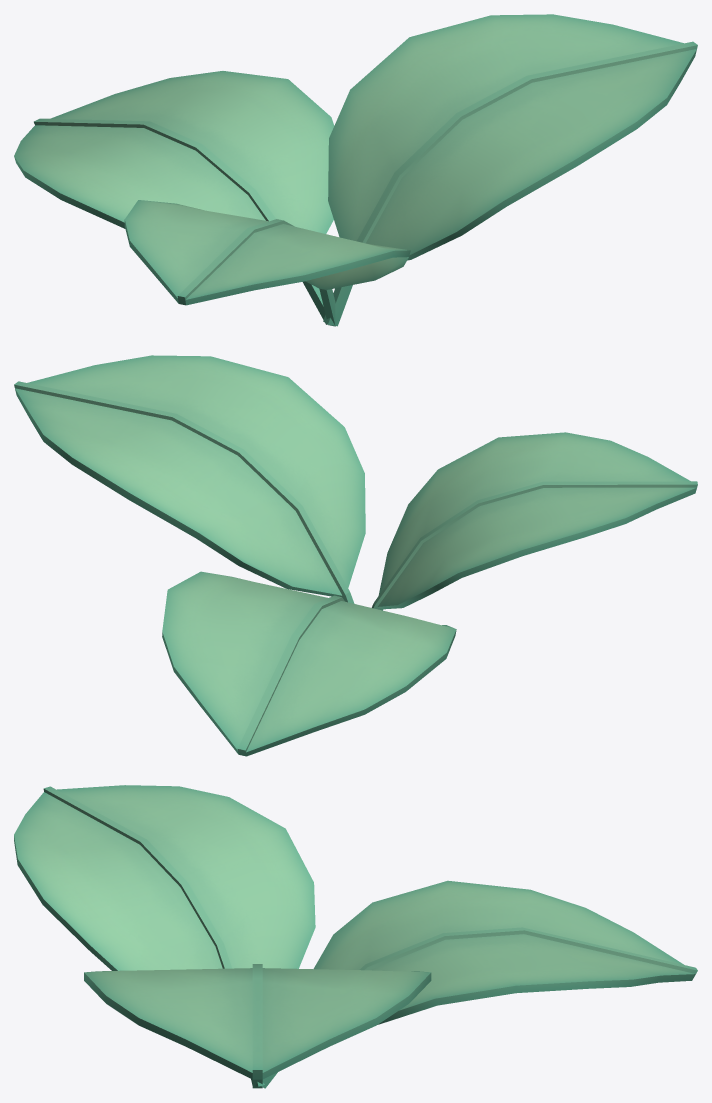
Rendered from plant3_green.fbx.
The picture shows the model from 3 angles, top to bottom: view 1: azimuth 30°, elevation 25°; view 2: azimuth 150°, elevation 25°; view 3: azimuth 270°, elevation 25°; orthographic projection. The views are drawn at different scales.
Visible parts, largest first — view 1: pPlane294, pPlane295, pPlane296; view 2: pPlane294, pPlane295, pPlane296; view 3: pPlane296, pPlane295, pPlane294.
Boxes of the visible parts, box(x1,y1,x2,y2) form: pPlane294: box(323, 14, 697, 326); pPlane295: box(14, 71, 334, 324); pPlane296: box(124, 200, 410, 326); pPlane294: box(14, 355, 365, 603); pPlane295: box(162, 571, 456, 756); pPlane296: box(371, 432, 697, 610); pPlane296: box(14, 785, 315, 1086); pPlane295: box(261, 880, 697, 1088); pPlane294: box(84, 964, 431, 1088).
Size of the model in its own units: 1.74 by 0.5441 by 1.6.
